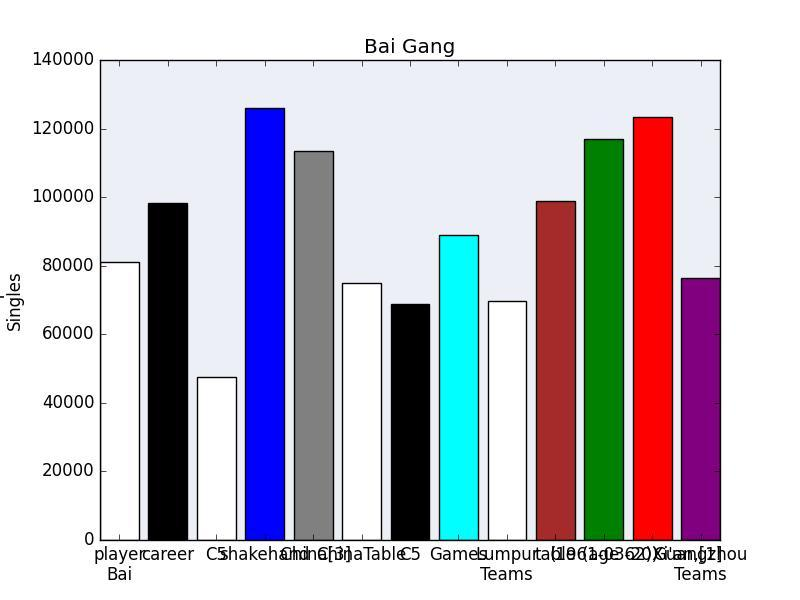axis: (0, 52, 94, 548)
rectangle: (632, 117, 672, 540), (245, 108, 284, 540), (584, 139, 624, 540), (294, 151, 332, 540), (148, 203, 188, 540), (536, 201, 575, 540), (439, 235, 478, 540), (100, 262, 139, 540), (681, 278, 720, 540), (342, 283, 381, 540), (390, 304, 430, 540), (488, 301, 526, 540), (197, 377, 236, 540)
